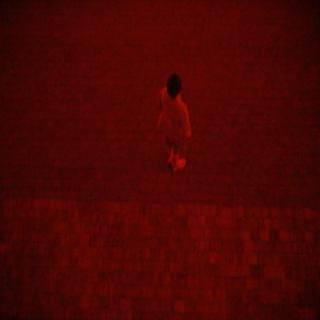person: (149, 69, 203, 184)
